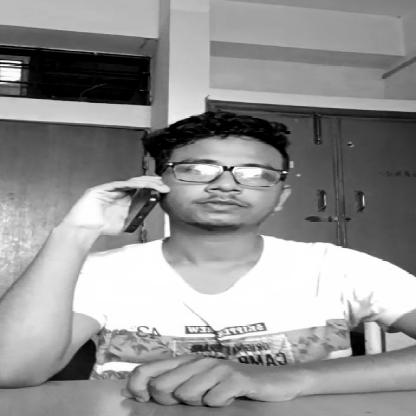Normal: (176, 120, 288, 237)
